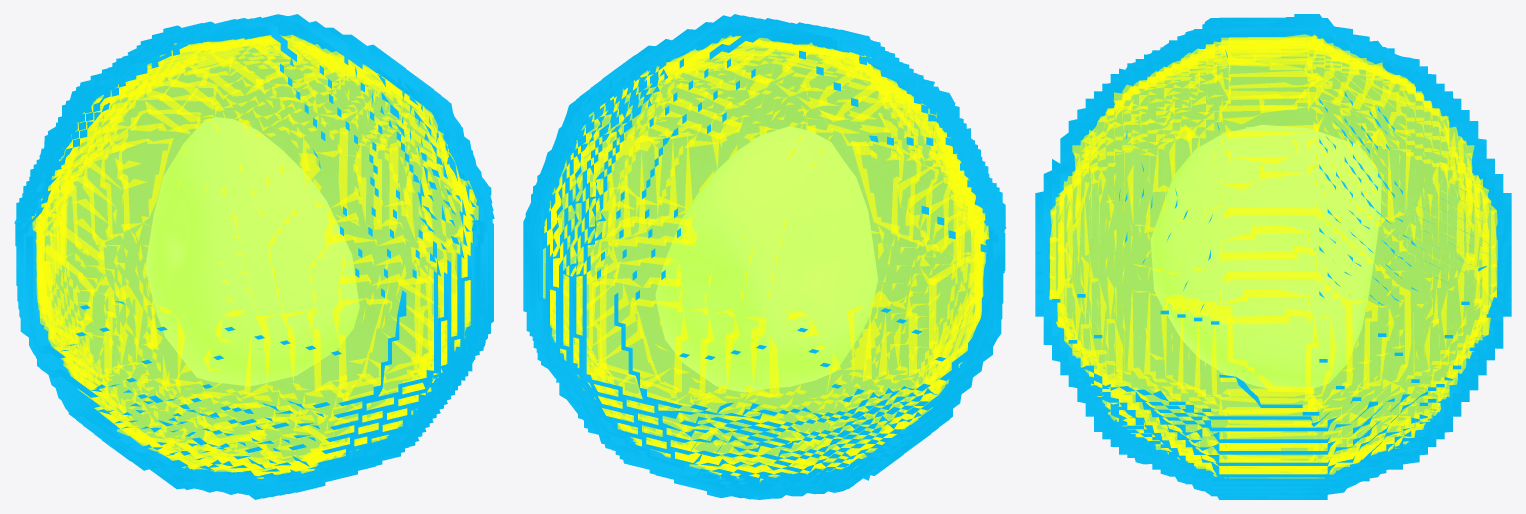
File: periphery.glb
3 views of the same model, side by side, from view 1: azimuth 30°, elevation 25°; view 2: azimuth 150°, elevation 25°; view 3: azimuth 270°, elevation 25° (orthographic).
Visible parts, largest first — view 1: periphery.001; view 2: periphery.001; view 3: periphery.001.
Part boxes in pixels (<box>): periphery.001: <box>14,14,494,499</box>; periphery.001: <box>523,14,1006,499</box>; periphery.001: <box>1035,14,1511,499</box>.
Bounding box in the file's own units: 1.16 × 1.16 × 1.16.
